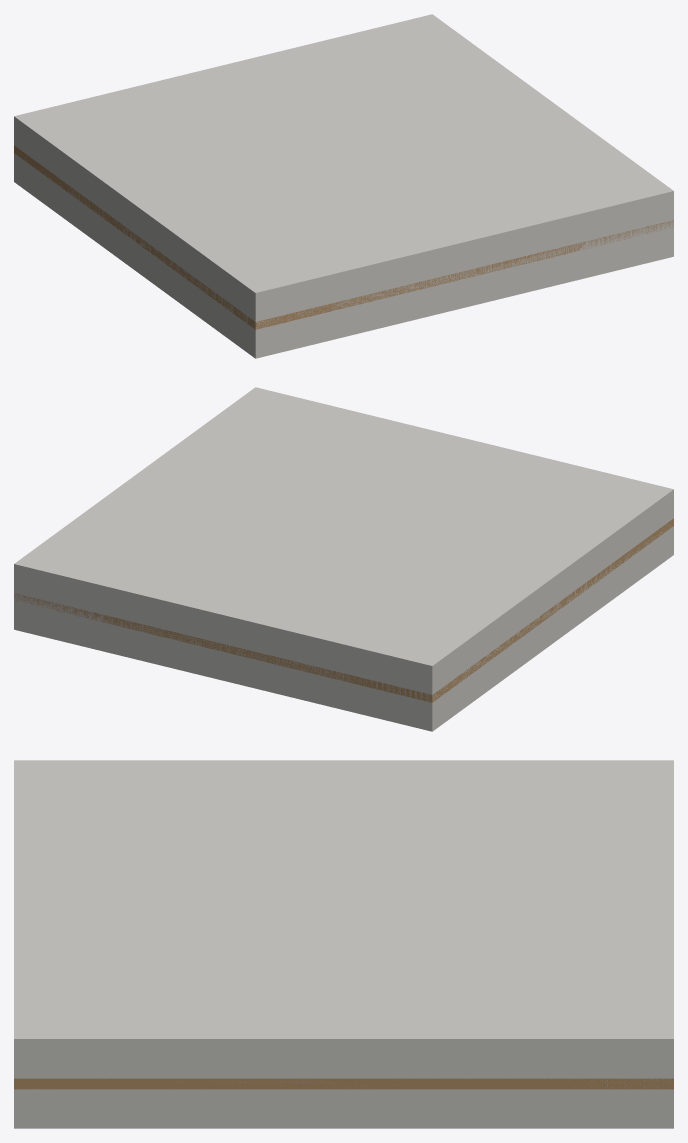
The model's file is floor-wood-finish.glb.
3 renders of one model, top to bottom at view 1: azimuth 30°, elevation 25°; view 2: azimuth 150°, elevation 25°; view 3: azimuth 270°, elevation 25°, orthographic. The views are drawn at different scales.
Parts seen in each view (by area): view 1: Structure.003, Finish_Wood; view 2: Structure.003, Finish_Wood; view 3: Structure.003, Finish_Wood.
Boxes of the visible parts, <box> form: Structure.003: <box>14,14,673,358</box>; Finish_Wood: <box>14,145,673,329</box>; Structure.003: <box>14,387,673,731</box>; Finish_Wood: <box>14,518,673,702</box>; Structure.003: <box>14,760,673,1128</box>; Finish_Wood: <box>14,1078,673,1089</box>.
Size of the model in its own units: 1 by 0.15 by 1.
